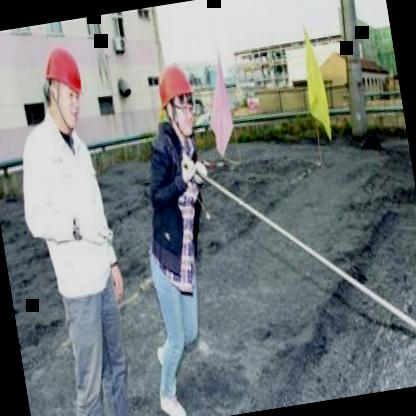helmet: (32, 38, 92, 138), (152, 57, 204, 146)
